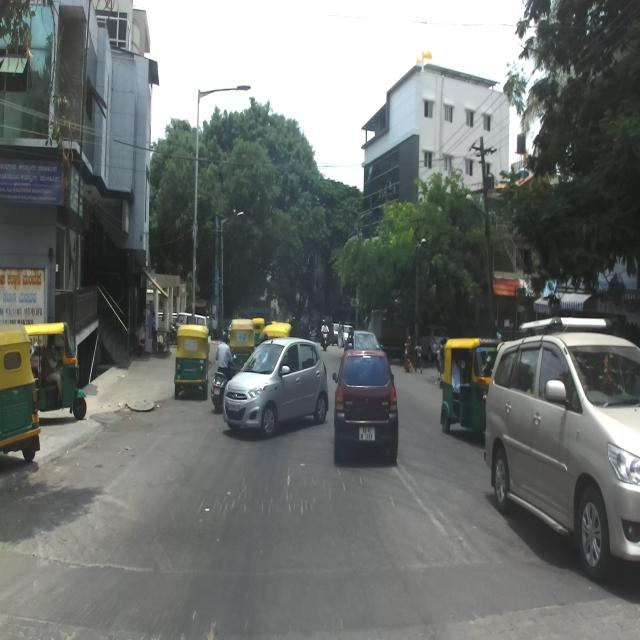auto ahead at: (30, 331, 90, 423), (440, 333, 486, 440), (170, 319, 212, 403)
car ahead at: (487, 316, 640, 590), (224, 328, 330, 442), (332, 344, 404, 468)
